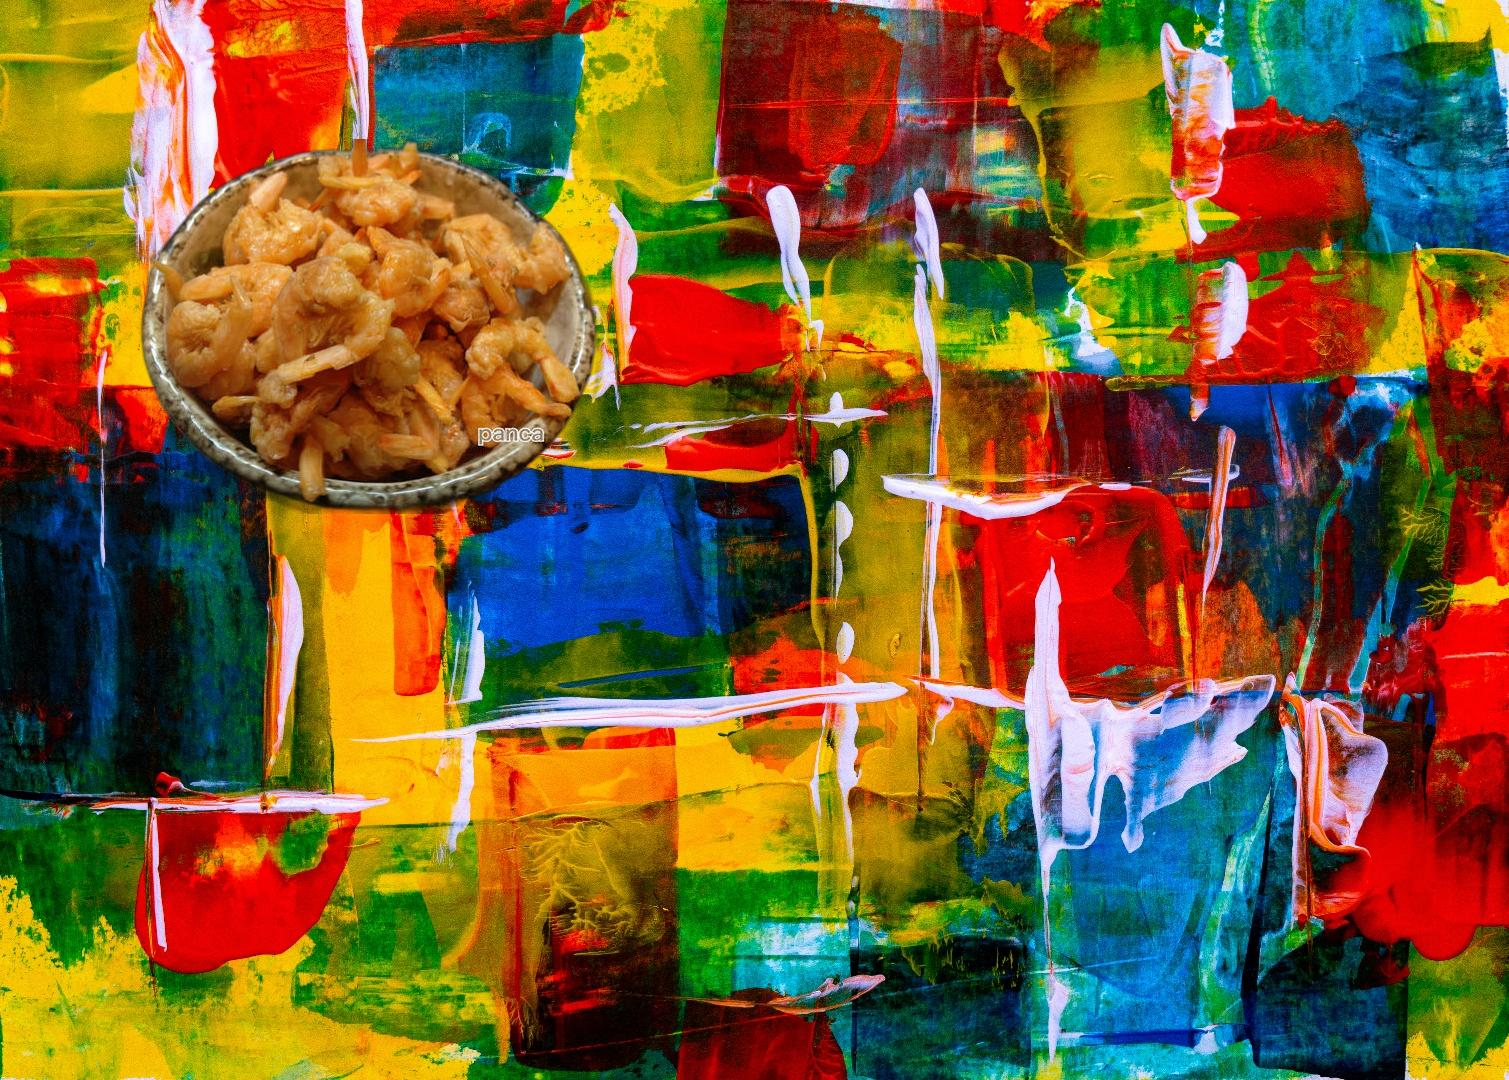biological: (137, 139, 602, 514)
trashbox-cardboard: (357, 842, 868, 1080)
